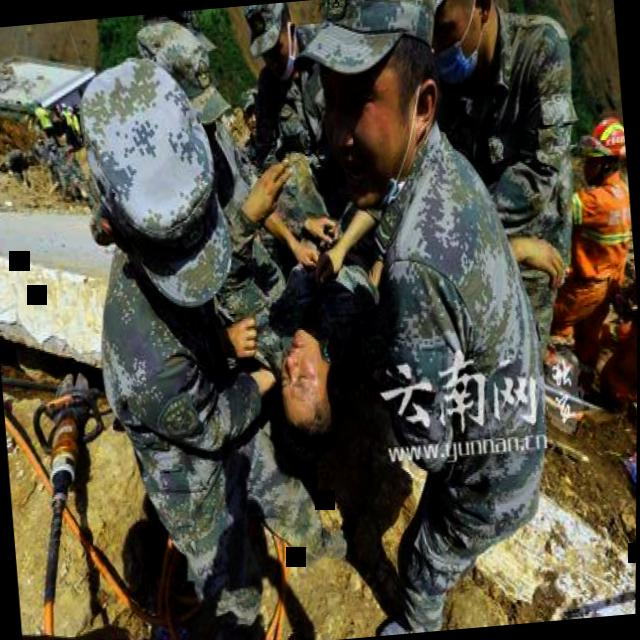Fall-Detected: (222, 100, 403, 522)
